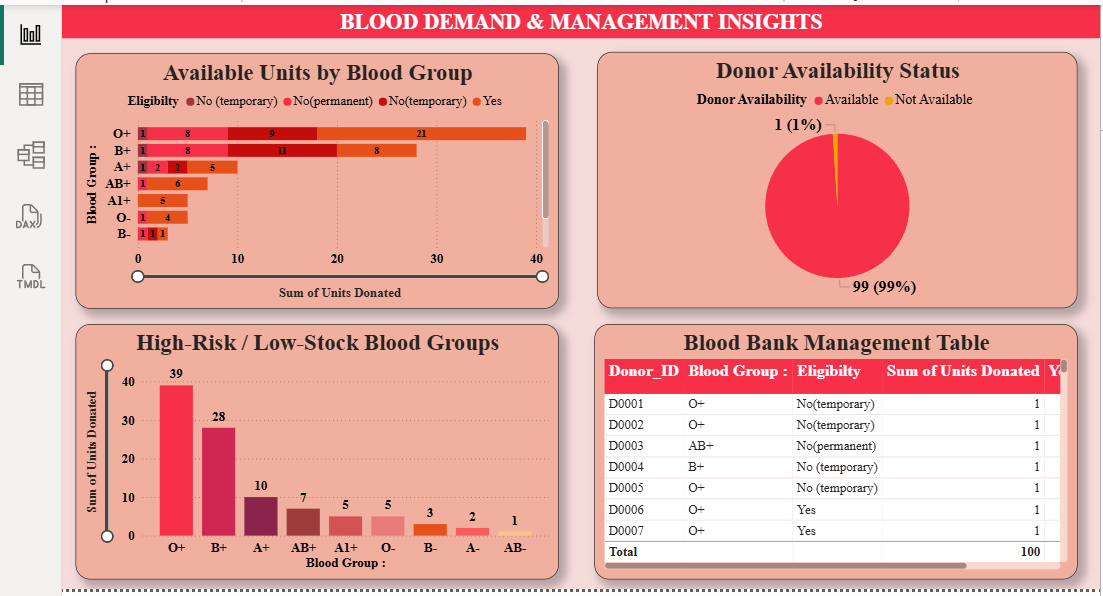

This screenshot's page, from the dashboard's own definition file:
{"tool":"powerbi","page":{"name":" Page 4","canvas":[1280,720],"ordinal":3},"visuals":[{"type":"textbox","box":[0,0,1280.3,41.2],"z":0},{"type":"barChart","title":"Available Units by Blood Group","fields":{"Category":["Sheet1.Blood Group :"],"Y":["Sum(Sheet1.Units Donated)"],"Series":["Sheet1.Eligibilty"]},"box":[17.5,59.2,595.8,314.7],"z":1000},{"type":"pieChart","title":"Donor Availability Status","fields":{"Category":["Sheet1.Donor Availability"],"Y":["CountNonNull(Sheet1.Donor_ID)"]},"box":[660.3,57.8,591.7,316],"z":2000},{"type":"columnChart","title":"High-Risk / Low-Stock Blood Groups","fields":{"Category":["Sheet1.Blood Group :"],"Y":["Sum(Sheet1.Units Donated)"]},"box":[17.5,394,595.8,314.7],"z":3000},{"type":"tableEx","title":"Blood Bank Management Table","fields":{"Values":["Sheet1.Donor_ID","Sheet1.Blood Group :","Sheet1.Eligibilty","Sum(Sheet1.Units Donated)","Sheet1.Last Donation Date.Variation.Date Hierarchy.Year","Sheet1.Last Donation Date.Variation.Date Hierarchy.Month","Sheet1.Last Donation Date.Variation.Date Hierarchy.Day"]},"box":[656.3,394,595.8,314.7],"z":4000}]}

Visuals, with their boxes on the page's 1280x720 design canvas (x1, y1, x2, y2). These are canvas units, not pixel positions in the 1103x596 screenshot, which may show the page scaled, cropped or inside an application window:
textbox: {"left": 0, "top": 0, "right": 1280, "bottom": 41}
"Available Units by Blood Group" barChart: {"left": 18, "top": 59, "right": 613, "bottom": 374}
"Donor Availability Status" pieChart: {"left": 660, "top": 58, "right": 1252, "bottom": 374}
"High-Risk / Low-Stock Blood Groups" columnChart: {"left": 18, "top": 394, "right": 613, "bottom": 709}
"Blood Bank Management Table" tableEx: {"left": 656, "top": 394, "right": 1252, "bottom": 709}
